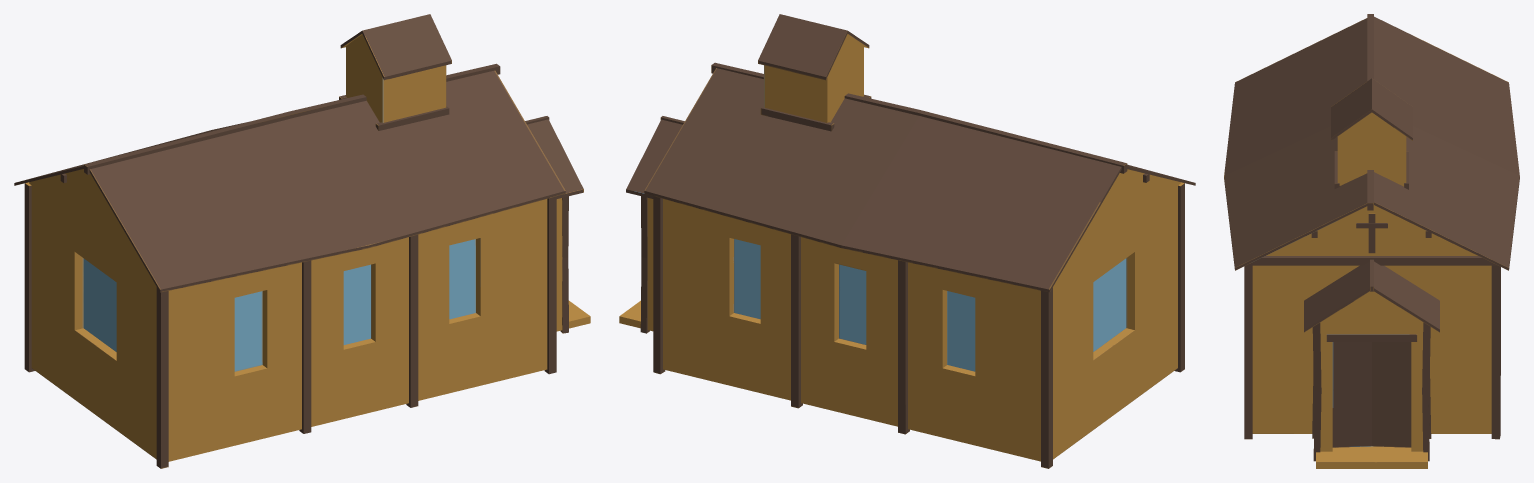
File: church.glb
3 views of the same model, side by side, from view 1: azimuth 30°, elevation 25°; view 2: azimuth 150°, elevation 25°; view 3: azimuth 270°, elevation 25° (orthographic). The views are drawn at different scales.
Parts seen in each view (by area): view 1: church; view 2: church; view 3: church.
Boxes of the visible parts, x1,y1,x2,y2 form: church: (14,14,590,468); church: (619,14,1195,468); church: (1224,14,1519,468).
Bounding box in the file's own units: 5.39 × 3.49 × 3.09.
Materials: 3 (3 with a texture image).
